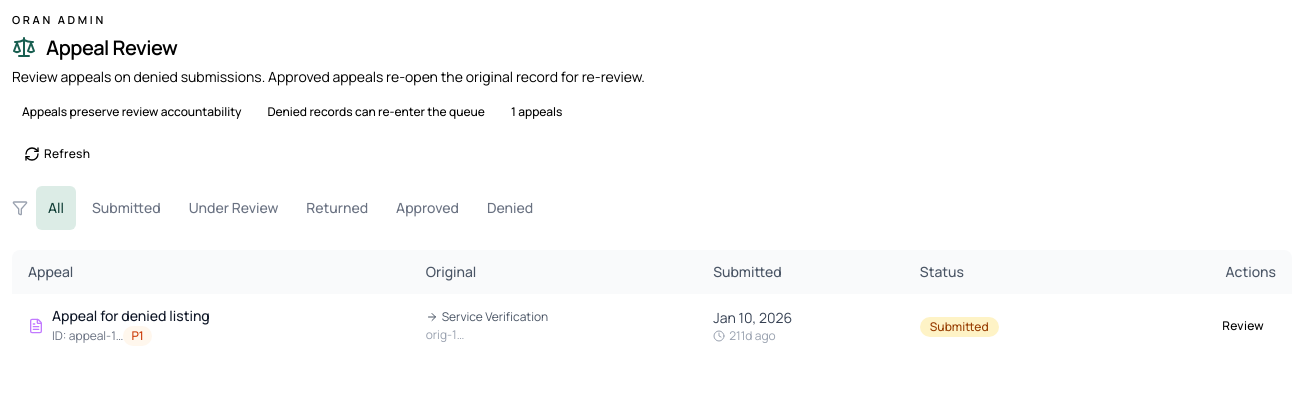
Test: oran admin appeals page › loads appeals and applies status filter tabs
Expected: the text "Appeal for denied listing" is shown, [52,306,210,326]
Click the tab "Denied" at (510, 208), box [475,186,545,230]
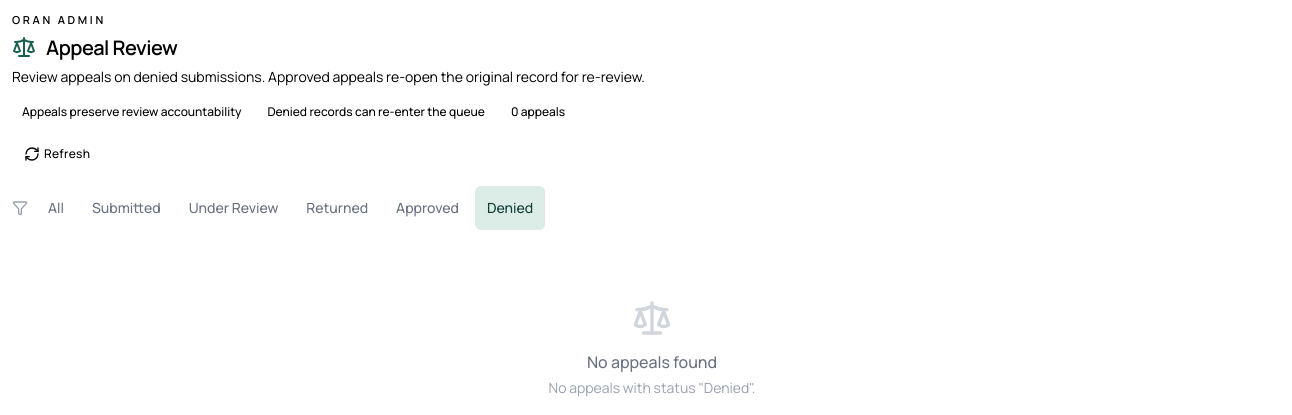
Result: the text "No appeals found" is shown at [587,350,717,374]
Result: the text "No appeals with status \"Denied\"." is shown at [549,378,755,398]
